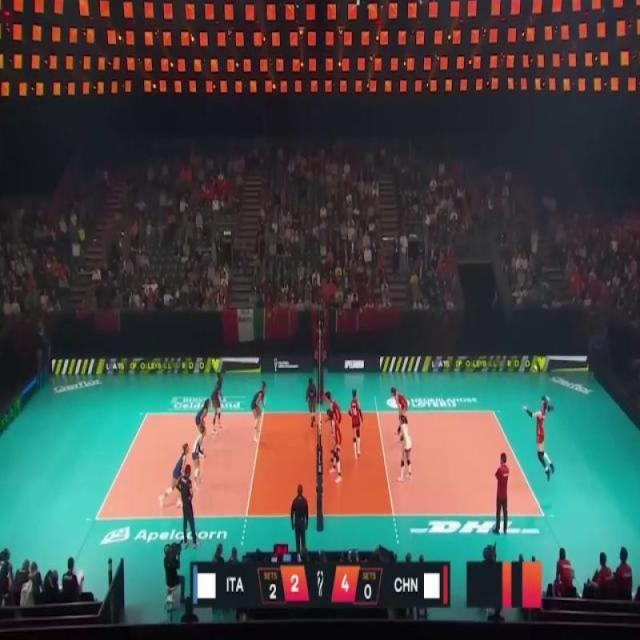volleyball: (533, 366, 538, 374)
